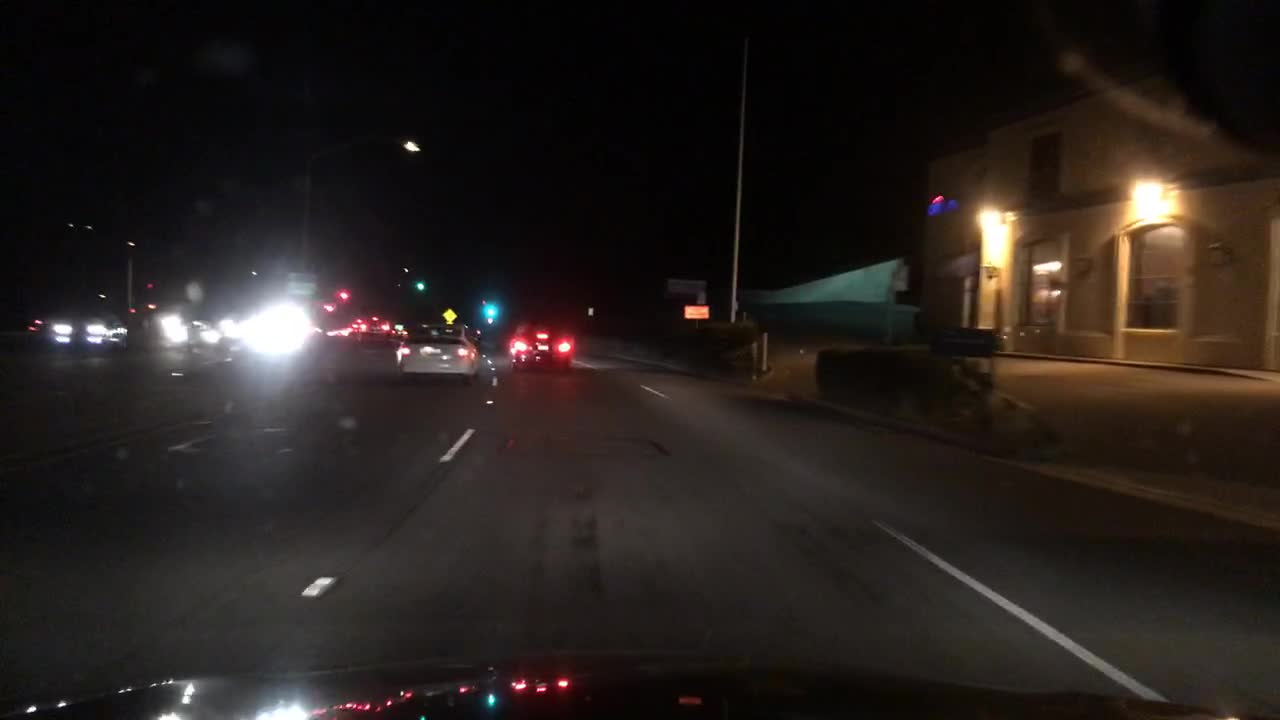car: (391, 332, 484, 379), (507, 320, 578, 370), (40, 313, 103, 343), (241, 314, 293, 342), (197, 317, 241, 349), (149, 315, 194, 343), (429, 324, 481, 343), (357, 315, 387, 332), (294, 321, 322, 337), (102, 324, 125, 342), (325, 323, 352, 336), (385, 323, 409, 337)
traffic light: (481, 302, 498, 318), (337, 287, 350, 304), (410, 277, 423, 291), (322, 301, 334, 314)
traffic sign: (285, 270, 315, 295), (664, 276, 705, 294), (683, 306, 711, 319), (439, 308, 457, 321), (584, 305, 597, 316)
